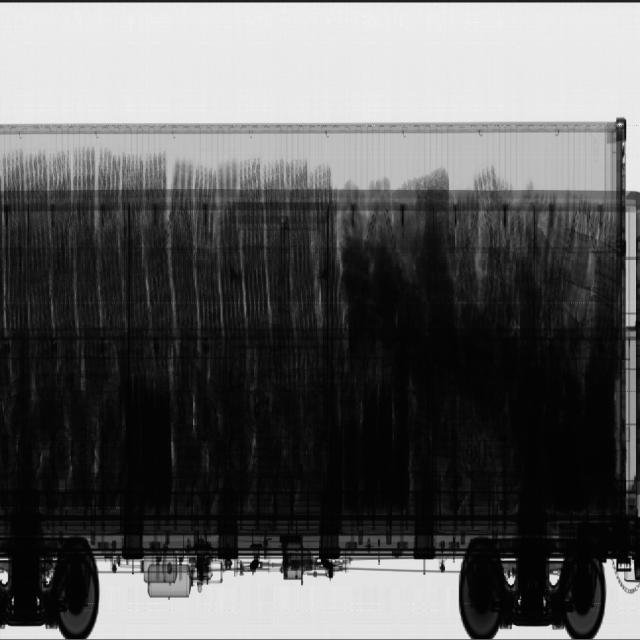textiles: (337, 168, 555, 402)
